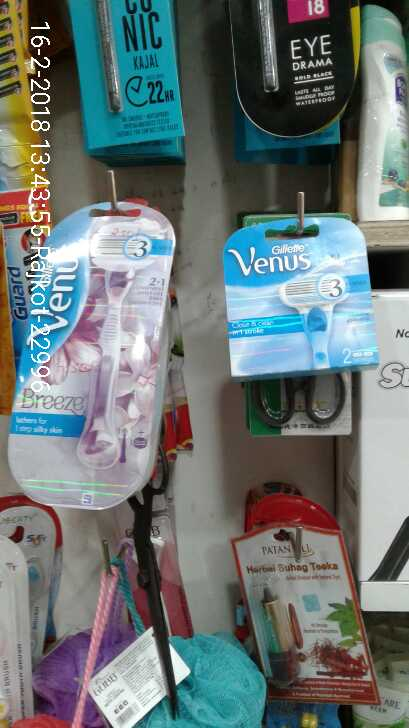venus: (8, 201, 180, 519), (229, 218, 374, 372)
